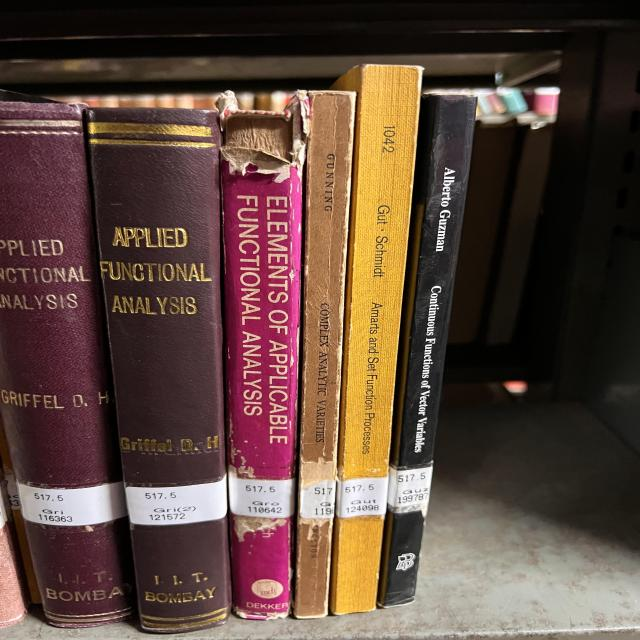Book: (87, 109, 232, 632), (0, 101, 133, 628), (330, 65, 422, 614), (378, 95, 473, 608), (220, 91, 307, 619), (292, 91, 355, 619)
Label: (17, 481, 127, 526), (125, 478, 227, 525), (228, 474, 295, 518), (387, 465, 433, 515), (337, 478, 388, 518), (300, 480, 337, 519)
